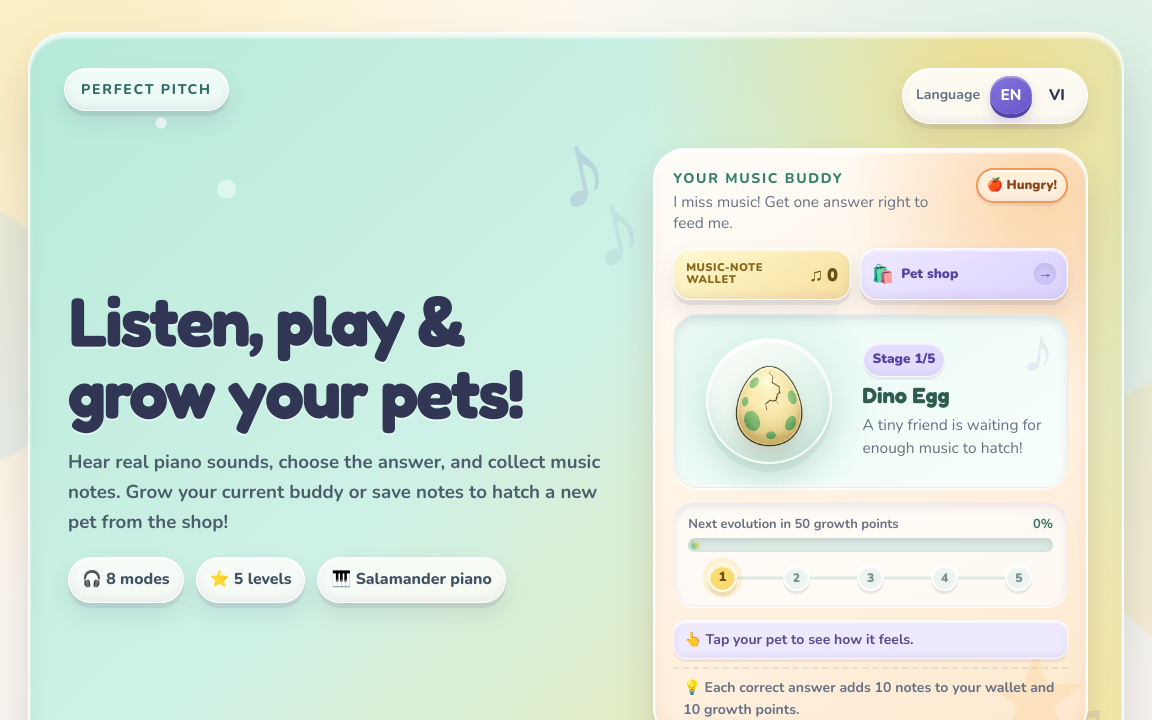
Test case: PerfectPitchApp › roars once after returning to a hungry dinosaur
Check: the text "🍎 Hungry!" is shown, box [976, 168, 1068, 203]
Step 1. Click the button named "Tap the pet for a reaction" → (769, 401), box [699, 331, 839, 471]
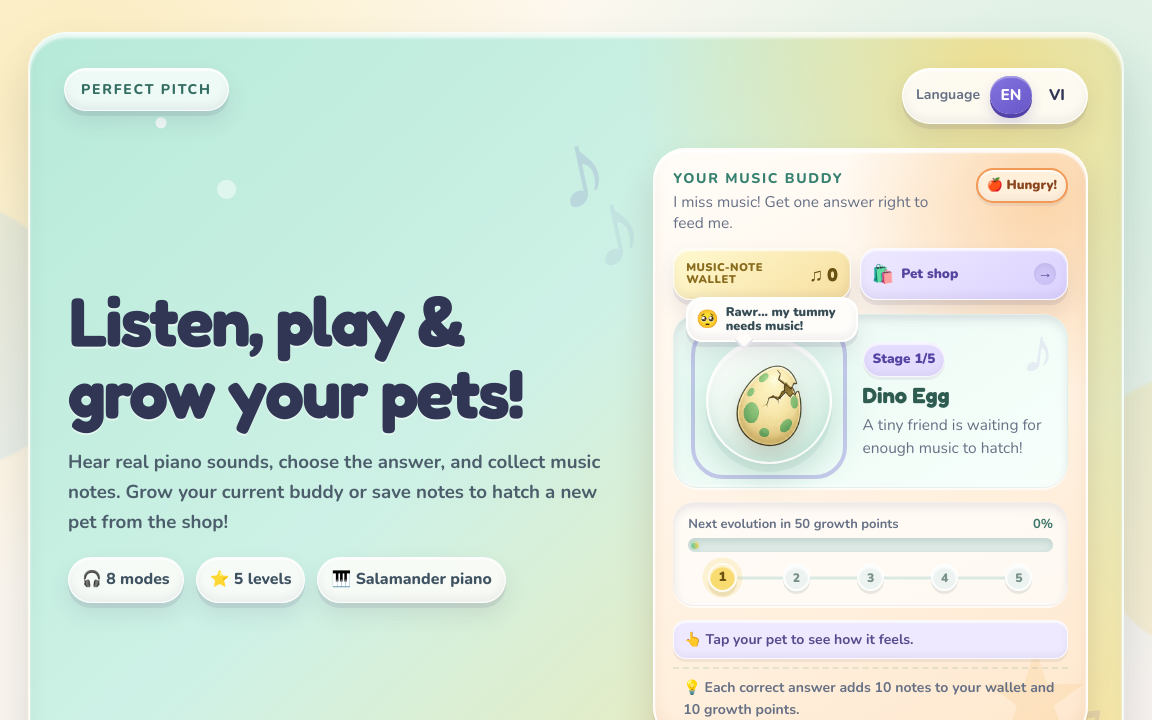
Check: the message shows "Rawr... my tummy needs music!", box [726, 303, 836, 334]
